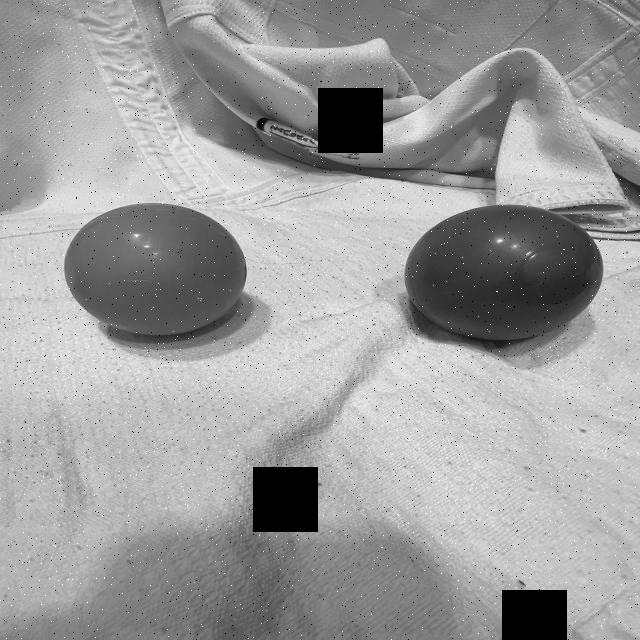ball: (402, 202, 607, 345), (62, 200, 252, 339)
